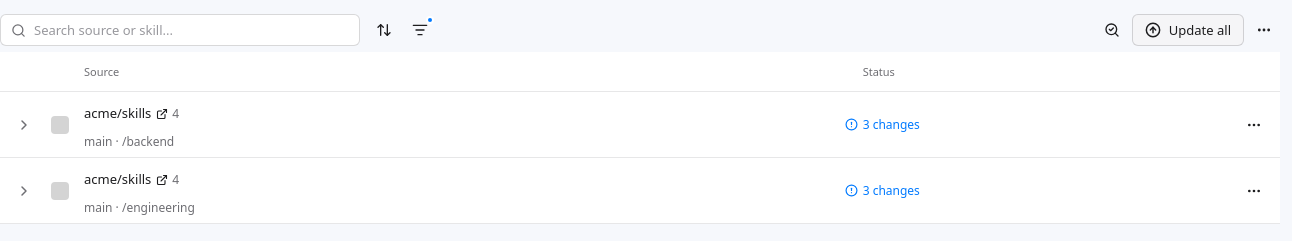
Test case: SkillSourceView › uses an explicit merge selection mode and exits it with Escape
The image size is (1292, 241).
Click the button named "More Skill actions" at (1264, 30), box [1248, 14, 1280, 46]
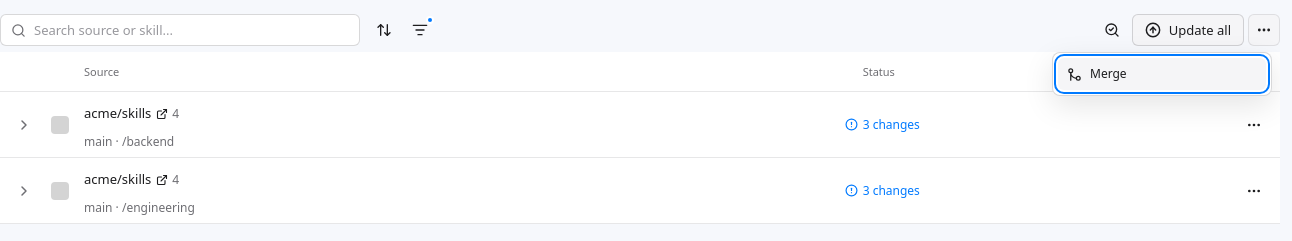
Click the menu item "Merge" at (1162, 74), box [1058, 58, 1266, 90]
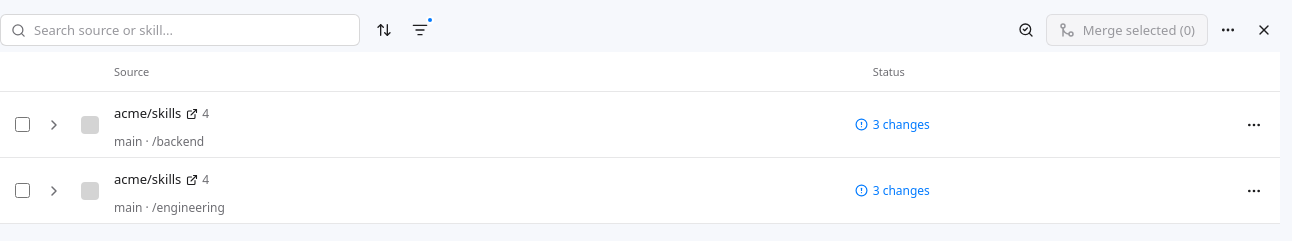
Now the number of checkboxes is 2
Now the button "Merge selected (0)" is disabled, box [1046, 14, 1208, 46]
Click the checkbox named "Select source acme/skills · /backend" at (22, 124), box [14, 117, 30, 132]
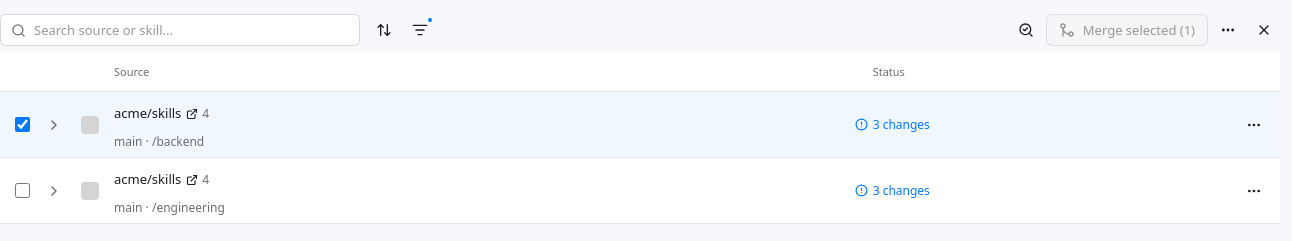
Press Escape
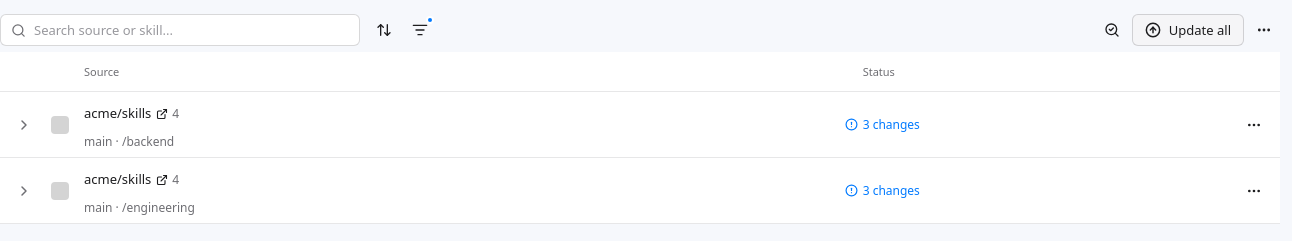
Now the checkbox is gone
Now the button "Merge" is gone
Click the button named "More Skill actions" at (1264, 30), box [1248, 14, 1280, 46]
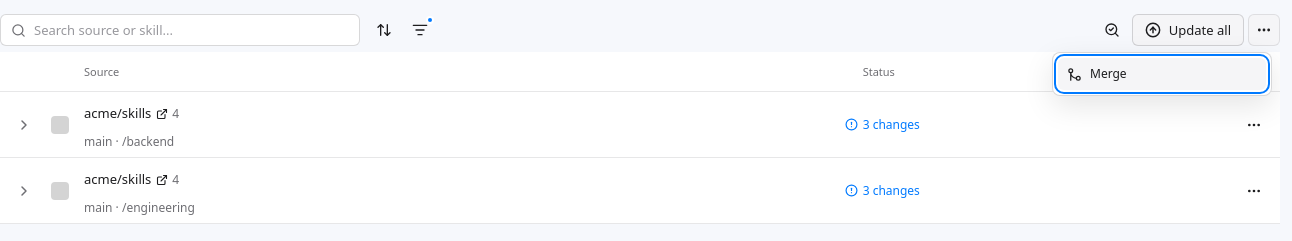
Now the menu item "Merge" is enabled, box [1058, 58, 1266, 90]
